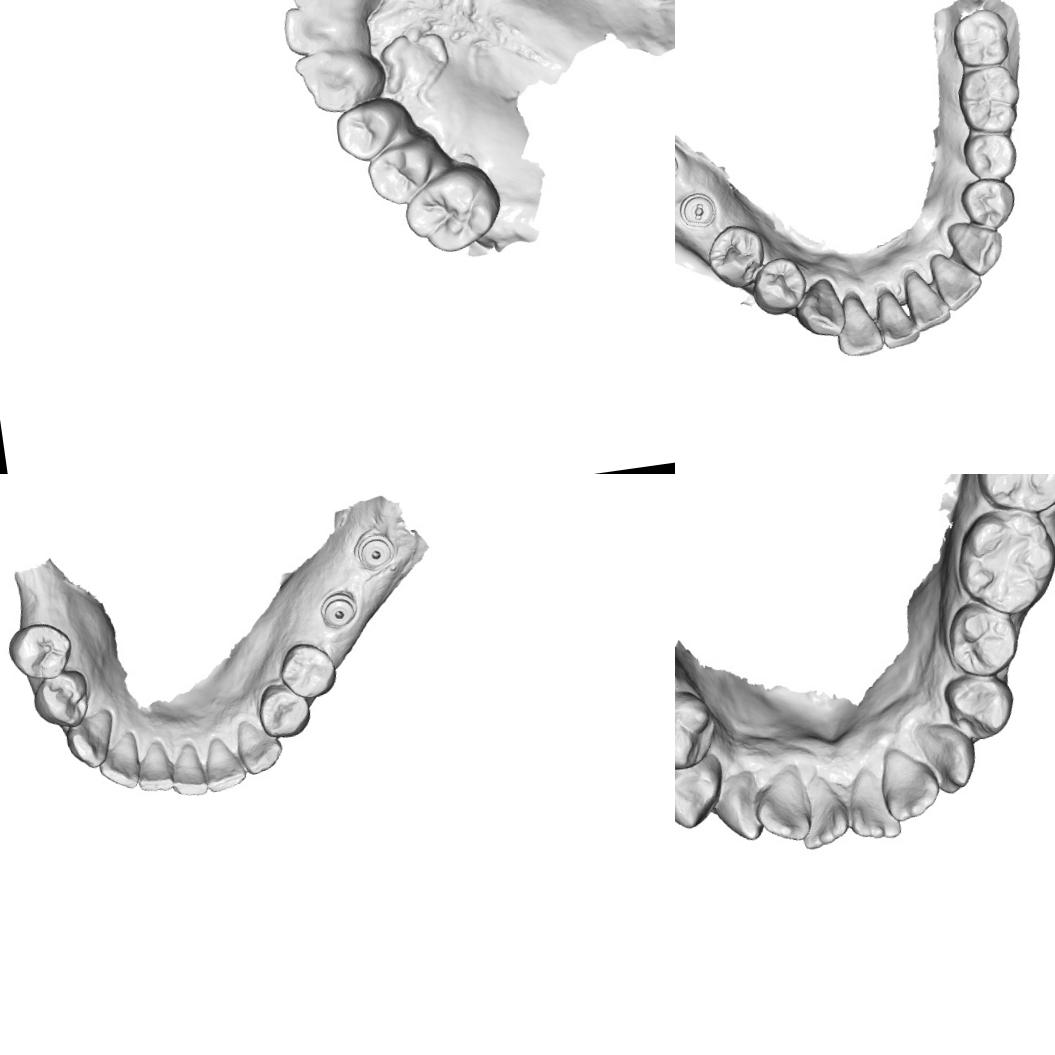canine: (291, 42, 392, 118), (918, 718, 979, 799), (710, 768, 772, 846), (944, 215, 1011, 281), (791, 272, 848, 343), (60, 705, 120, 772), (233, 714, 287, 777)
implant: (315, 587, 361, 630), (351, 531, 397, 573)
implant_minus: (676, 190, 718, 231)
incisor: (875, 743, 946, 827), (278, 0, 373, 58), (792, 774, 860, 852), (840, 767, 904, 846), (751, 768, 812, 846), (927, 247, 987, 314), (830, 292, 887, 360), (899, 266, 954, 336), (870, 284, 922, 352), (94, 731, 145, 793), (201, 732, 249, 793), (282, 0, 385, 27), (164, 741, 210, 798), (132, 737, 175, 796)
molar: (950, 503, 1055, 620), (398, 156, 508, 258), (952, 62, 1026, 140), (4, 617, 76, 684), (948, 5, 1016, 72), (967, 474, 1055, 517)
premolar: (940, 597, 1022, 682), (362, 130, 446, 210), (938, 666, 1020, 746), (330, 93, 416, 166), (702, 219, 770, 294), (27, 668, 95, 734), (747, 253, 812, 320), (275, 639, 340, 703), (675, 751, 725, 833), (675, 686, 719, 776), (956, 174, 1019, 235), (253, 678, 314, 741), (960, 127, 1023, 186)
